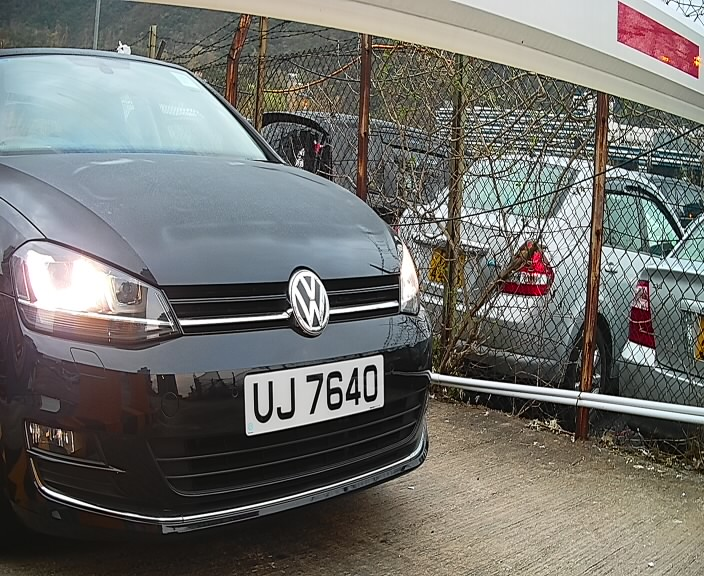License Plate: (234, 343, 395, 446)
